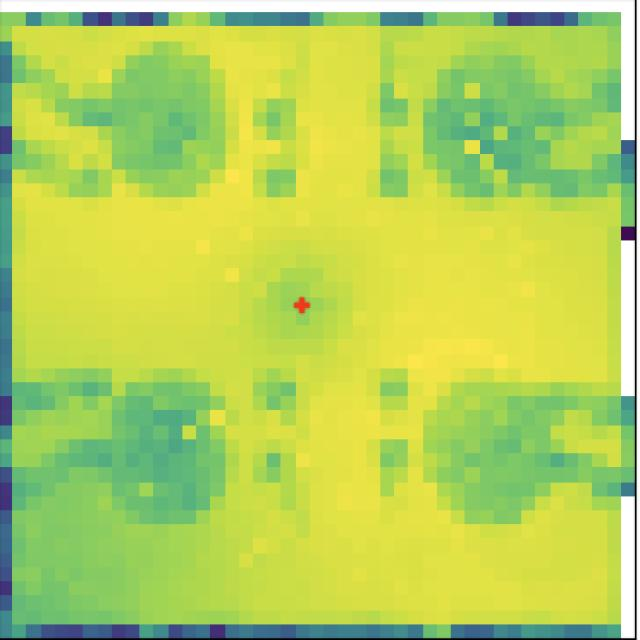Concrete: (431, 39, 581, 203)
Glass: (103, 42, 232, 199)
Metal: (419, 363, 572, 530)
Wood: (98, 364, 237, 529)
